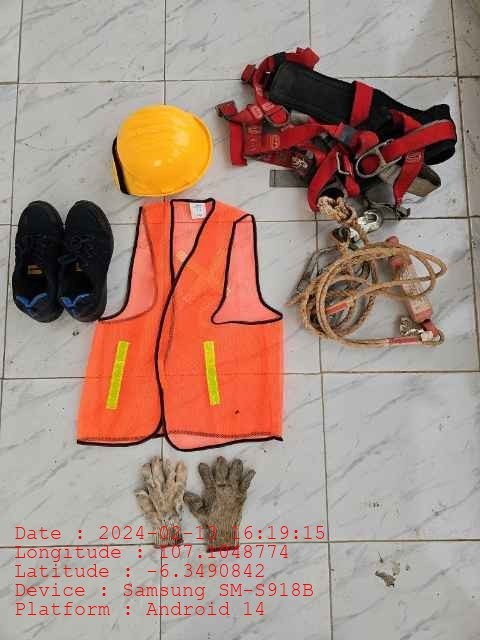HELM: (111, 105, 211, 198)
ROMPI: (108, 198, 273, 448)
SEPATU: (10, 200, 115, 323)
TAMBANG_SLING: (296, 207, 446, 349)
